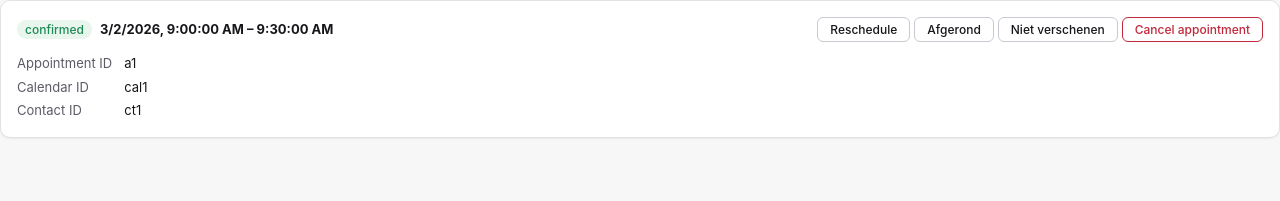
AppointmentCard › surfaces a failed complete/no-show attempt without hiding the backend message
What coordinates should you click on to do the following:
click the button "Afgerond"
I would click on:
 (954, 30)
Its box is left=914, top=17, right=994, bottom=42.
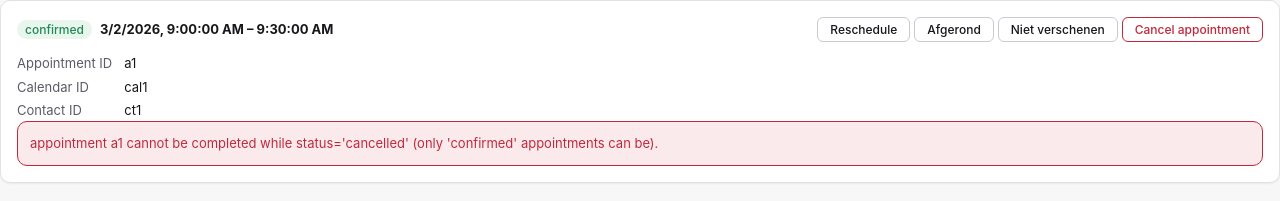
Check: the text "cannot be completed while status=" is shown, box left=30, top=134, right=658, bottom=150
